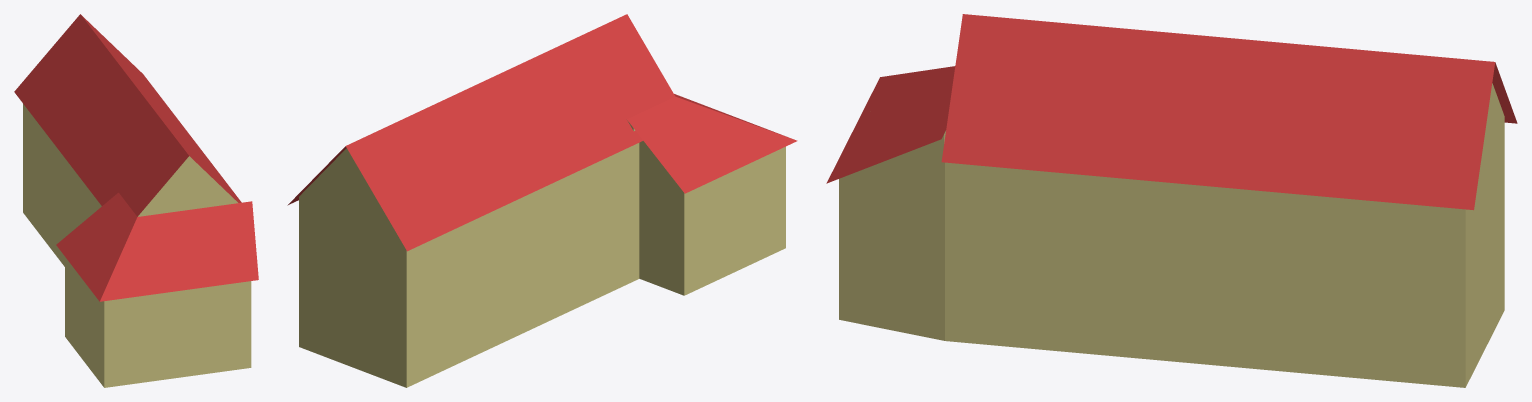
3 views of the same model, side by side, from view 1: azimuth 30°, elevation 25°; view 2: azimuth 150°, elevation 25°; view 3: azimuth 270°, elevation 25° (orthographic). The views are drawn at different scales.
Size of the model in its own units: 19.06 by 31.35 by 14.48.
